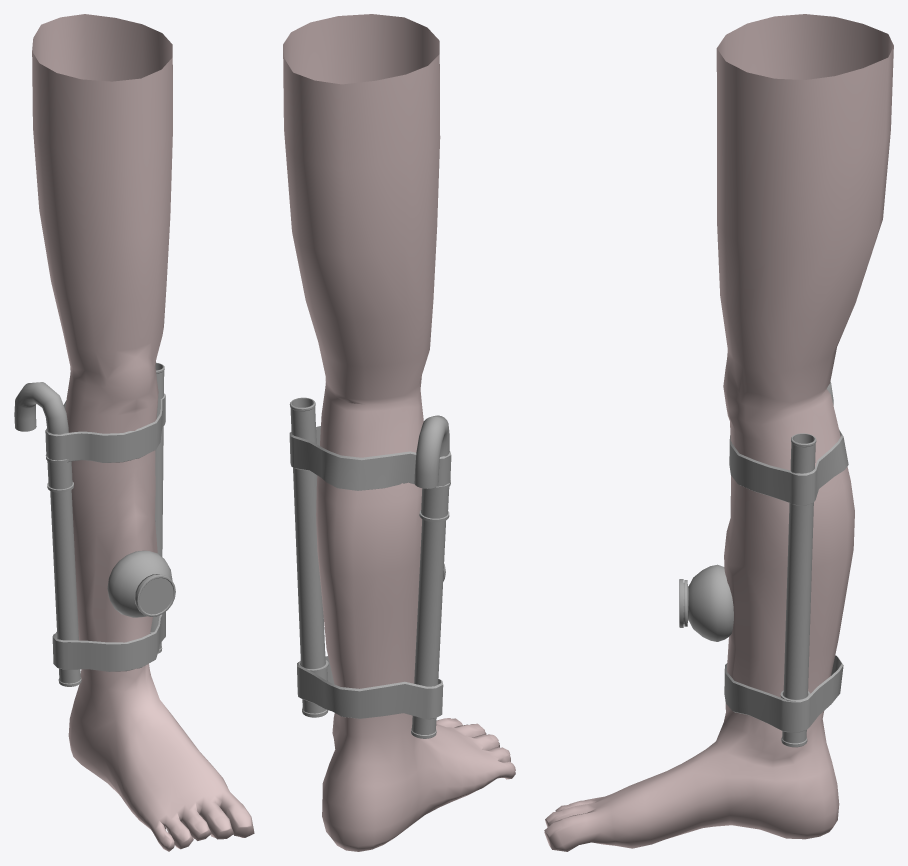
Rendered from FBX_Fracture_Leg_6.fbx.
3 views of the same model, side by side, from view 1: azimuth 30°, elevation 25°; view 2: azimuth 150°, elevation 25°; view 3: azimuth 270°, elevation 25° (orthographic). The views are drawn at different scales.
Parts seen in each view (by area): view 1: polySurface5, polySurface4, pCylinder6, pCylinder5, pCylinder3, polySurface6; view 2: polySurface5, polySurface4, polySurface6, pCylinder3, pCylinder5; view 3: polySurface5, polySurface6, pCylinder5, pCylinder3, pCylinder6.
Boxes of the visible parts, box(x1,y1,x2,y2) form: polySurface5: box(32, 14, 254, 851); polySurface4: box(14, 382, 81, 686); pCylinder6: box(107, 550, 175, 617); pCylinder5: box(45, 393, 165, 462); pCylinder3: box(52, 612, 165, 671); polySurface6: box(150, 362, 164, 653); polySurface5: box(283, 14, 515, 851); polySurface4: box(411, 415, 450, 738); polySurface6: box(289, 397, 328, 717); pCylinder3: box(297, 656, 443, 719); pCylinder5: box(289, 426, 451, 490); polySurface5: box(544, 14, 893, 851); polySurface6: box(780, 433, 816, 747); pCylinder5: box(729, 429, 848, 505); pCylinder3: box(724, 655, 843, 732); pCylinder6: box(679, 564, 733, 641).
Bounding box in the file's own units: 1.65 × 8.14 × 3.25.
